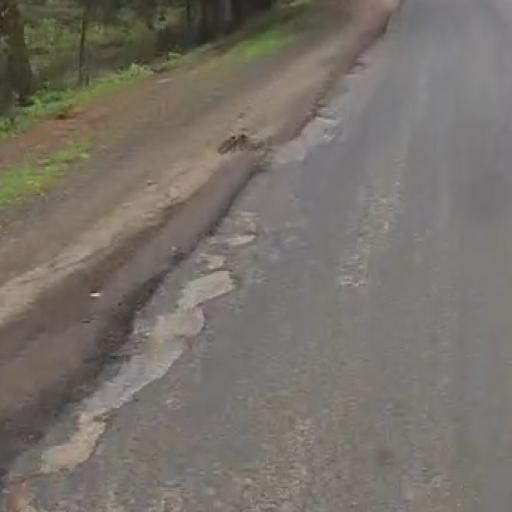edge_damage: (12, 166, 315, 496)
